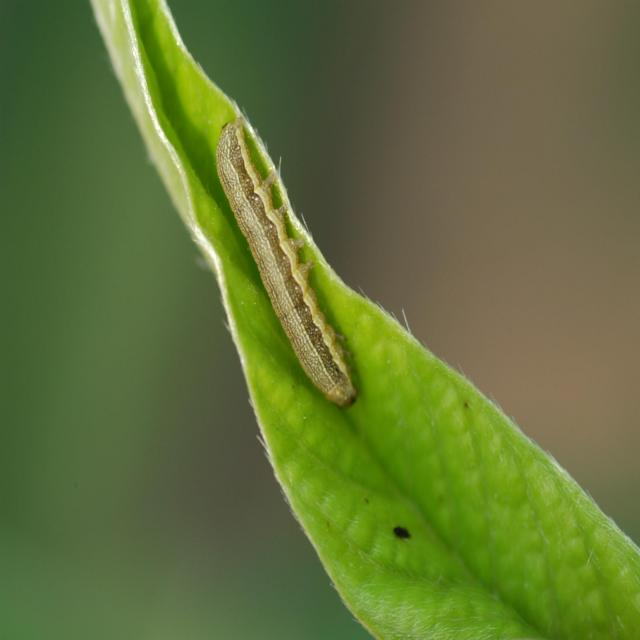BeetArmyWorm-Larva-: (208, 119, 359, 410)
